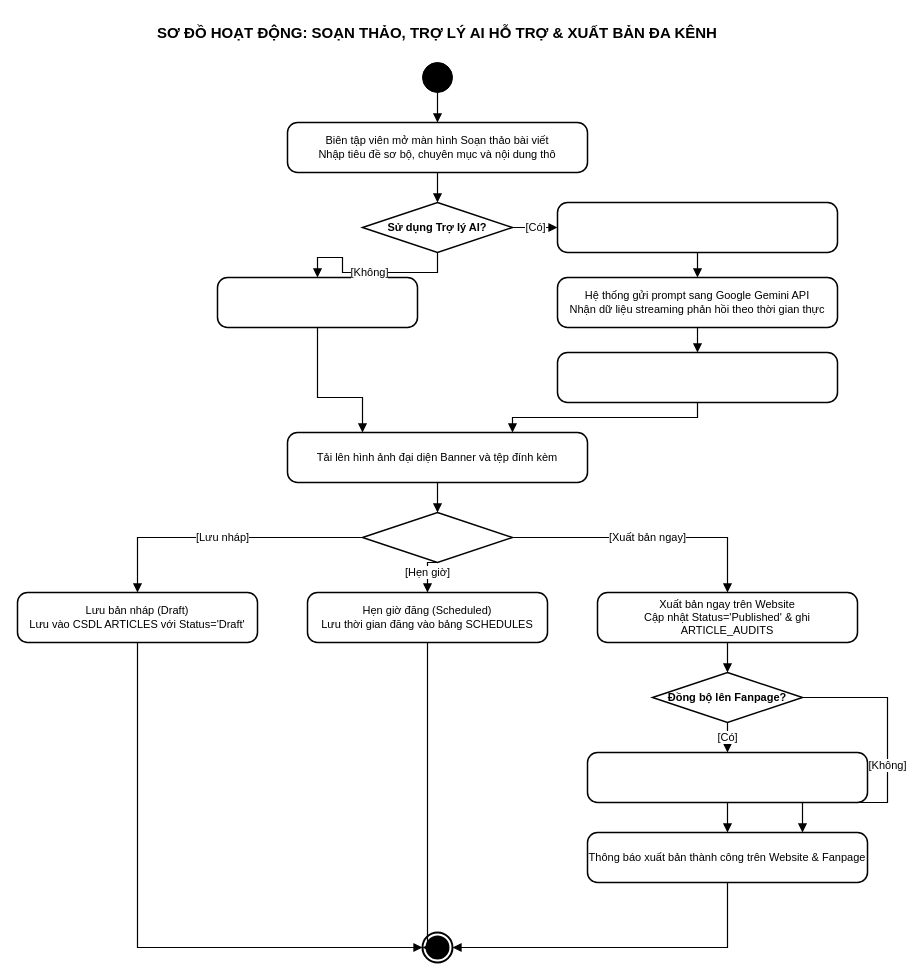
Some shapes in this 924 by 980 pixel diagram are drawn without their labels. Each missing label, with the centre of its shape:
BTV xem trước kết quả gợi ý và áp dụng vào bài viết: the point at 697,377
Chế độ xuất bản?: the point at 437,537
Chọn tính năng: Tóm tắt / Gợi ý tiêu đề / Tối ưu SEO: the point at 697,227
Gọi Meta Facebook Graph API v19.0 Đăng bài kèm ảnh & Lưu FacebookPostId vào CSDL: the point at 727,777
Tự biên soạn nội dung thủ công: the point at 317,302
